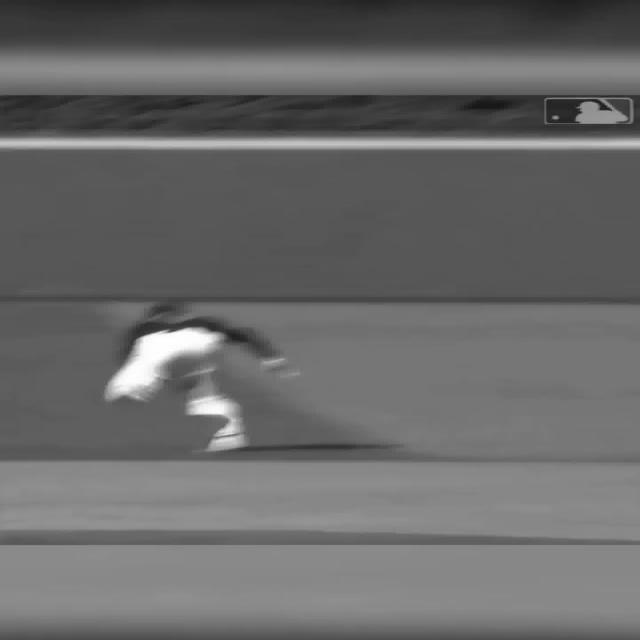baseball_glove: (259, 357, 299, 379)
shoe: (184, 394, 248, 452), (126, 375, 164, 402), (204, 432, 248, 452)
